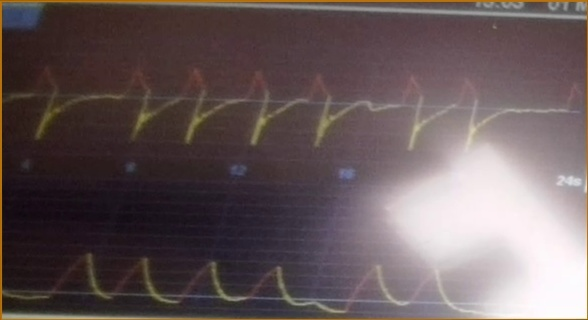Ineffective_effort Flow: (4, 57, 581, 153)
Ineffective_effort Volume: (4, 233, 493, 315)
